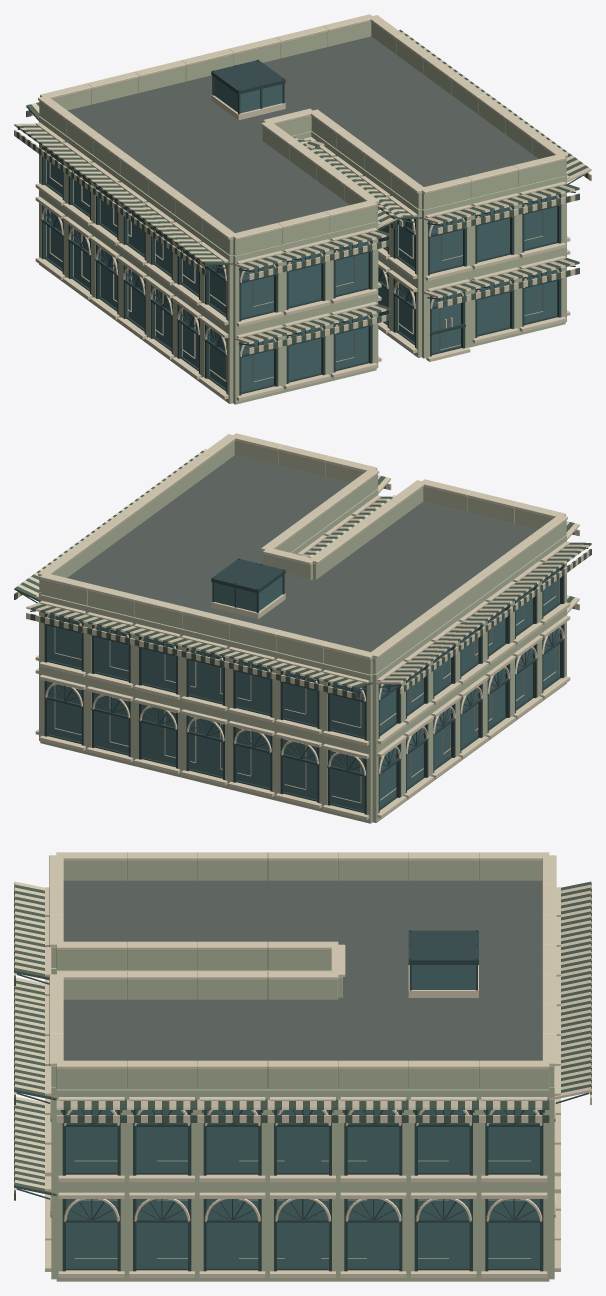
Rendered from garden-cafe.glb.
The picture shows the model from 3 angles, top to bottom: view 1: azimuth 30°, elevation 25°; view 2: azimuth 150°, elevation 25°; view 3: azimuth 270°, elevation 25°; orthographic projection. The views are drawn at different scales.
Visible parts, largest first — view 1: Roof main.009, Roof right, Roof left, collection/roof/frame.002, Foundation.027, right/north/1/1667/glass, left/north/1/1667/glass, left/north/0/1667/glass, left/north/0/8333/glass, right/north/0/8333/glass, right/north/1/8333/glass, left/north/1/8333/glass (+91 smaller); view 2: Roof main.009, Roof right, Roof left, Foundation.027, collection/roof/frame.002, main/south/0/3571/glass, main/south/0/9286/glass, main/south/0/2143/glass, main/south/0/6429/glass, main/south/0/5000/glass.003, main/south/0/7857/glass, main/south/0/714/glass (+95 smaller); view 3: Roof main.009, Roof left, Roof right, main/east/0/8333/glass, right/east/0/3750/glass, main/east/0/1667/glass, main/east/0/5000/glass.002, right/east/0/6250/glass, right/east/0/8750/glass, right/east/0/1250/glass, main/east/1/8333/glass, right/east/1/3750/glass (+145 smaller).
Boxes of the visible parts, x1,y1,x2,y2 form: Roof main.009: (68, 36, 450, 168); Roof right: (336, 95, 538, 208); Roof left: (148, 141, 349, 254); collection/roof/frame.002: (211, 59, 285, 114); Foundation.027: (49, 153, 543, 382); right/north/1/1667/glass: (430, 218, 462, 271); left/north/1/1667/glass: (241, 264, 273, 317); left/north/0/1667/glass: (241, 339, 273, 391); left/north/0/8333/glass: (335, 315, 368, 368); right/north/0/8333/glass: (524, 269, 557, 322); right/north/1/8333/glass: (524, 195, 557, 248); left/north/1/8333/glass: (335, 241, 368, 294); Roof main.009: (67, 534, 430, 673); Roof right: (127, 455, 349, 563); Roof left: (315, 501, 537, 607); Foundation.027: (54, 572, 556, 803); collection/roof/frame.002: (211, 558, 285, 612); main/south/0/3571/glass: (237, 728, 270, 787); main/south/0/9286/glass: (48, 682, 81, 741); main/south/0/2143/glass: (284, 739, 317, 799); main/south/0/6429/glass: (143, 704, 175, 764); main/south/0/5000/glass.003: (190, 716, 222, 776); main/south/0/7857/glass: (96, 693, 128, 753); main/south/0/714/glass: (332, 751, 364, 810); Roof main.009: (338, 880, 542, 1060); Roof left: (63, 880, 338, 941); Roof right: (63, 999, 338, 1060); main/east/0/8333/glass: (347, 1199, 399, 1267); right/east/0/3750/glass: (206, 1199, 258, 1267); main/east/0/1667/glass: (488, 1199, 539, 1267); main/east/0/5000/glass.002: (418, 1199, 469, 1267); right/east/0/6250/glass: (136, 1199, 187, 1267); right/east/0/8750/glass: (66, 1199, 117, 1267); right/east/0/1250/glass: (277, 1199, 328, 1267); main/east/1/8333/glass: (347, 1110, 399, 1171); right/east/1/3750/glass: (206, 1110, 258, 1171).
Bounding box in the file's own units: 16.41 × 7.33 × 16.41.
